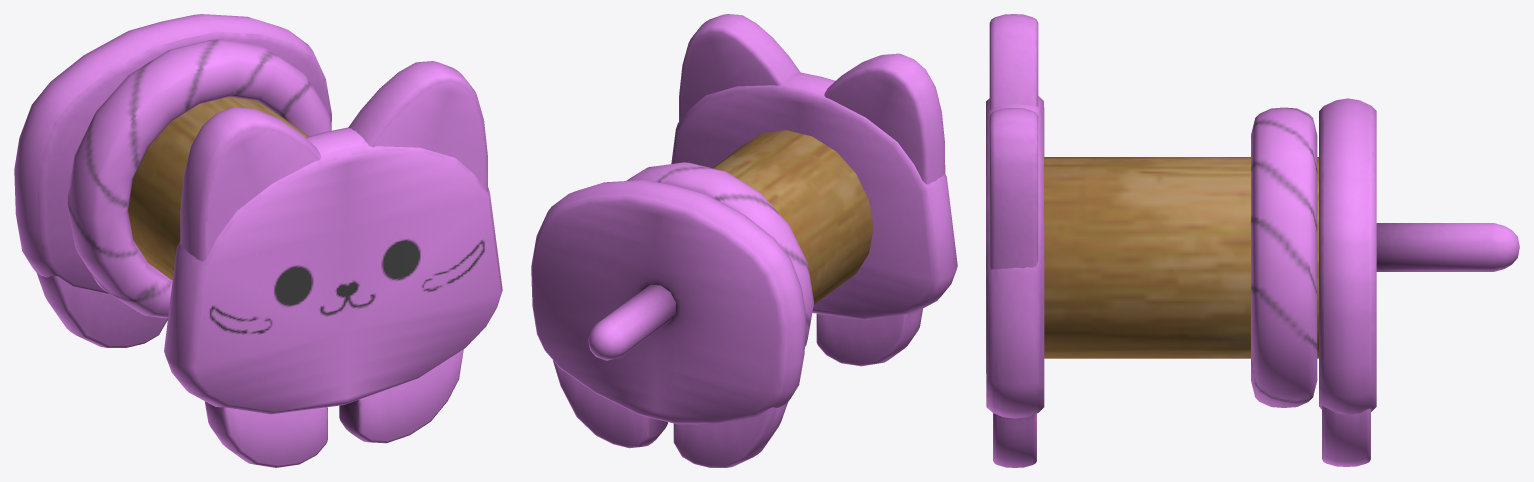
The model's file is Cat_Cylinder_1.fbx.
The picture shows the model from 3 angles, left to right: view 1: azimuth 30°, elevation 25°; view 2: azimuth 150°, elevation 25°; view 3: azimuth 270°, elevation 25°; orthographic projection. The views are drawn at different scales.
Visible parts, largest first — view 1: body01_low, part_low, circle01_low, tail01_low; view 2: body01_low, part_low, tail01_low, circle01_low; view 3: tail01_low, body01_low, circle01_low, part_low.
Part boxes in pixels (box(x1,y1,x2,y2)): body01_low: box(14, 14, 502, 414); part_low: box(36, 61, 487, 467); circle01_low: box(67, 39, 331, 318); tail01_low: box(128, 97, 308, 280); body01_low: box(531, 72, 957, 424); part_low: box(553, 14, 945, 467); tail01_low: box(588, 130, 873, 360); circle01_low: box(626, 162, 813, 346); tail01_low: box(1044, 157, 1519, 358); body01_low: box(986, 96, 1376, 418); circle01_low: box(1251, 107, 1317, 407); part_low: box(989, 14, 1370, 467).
Size of the model in its own units: 26.59 by 28.2 by 36.88.
Materials: 1 (1 with a texture image).
